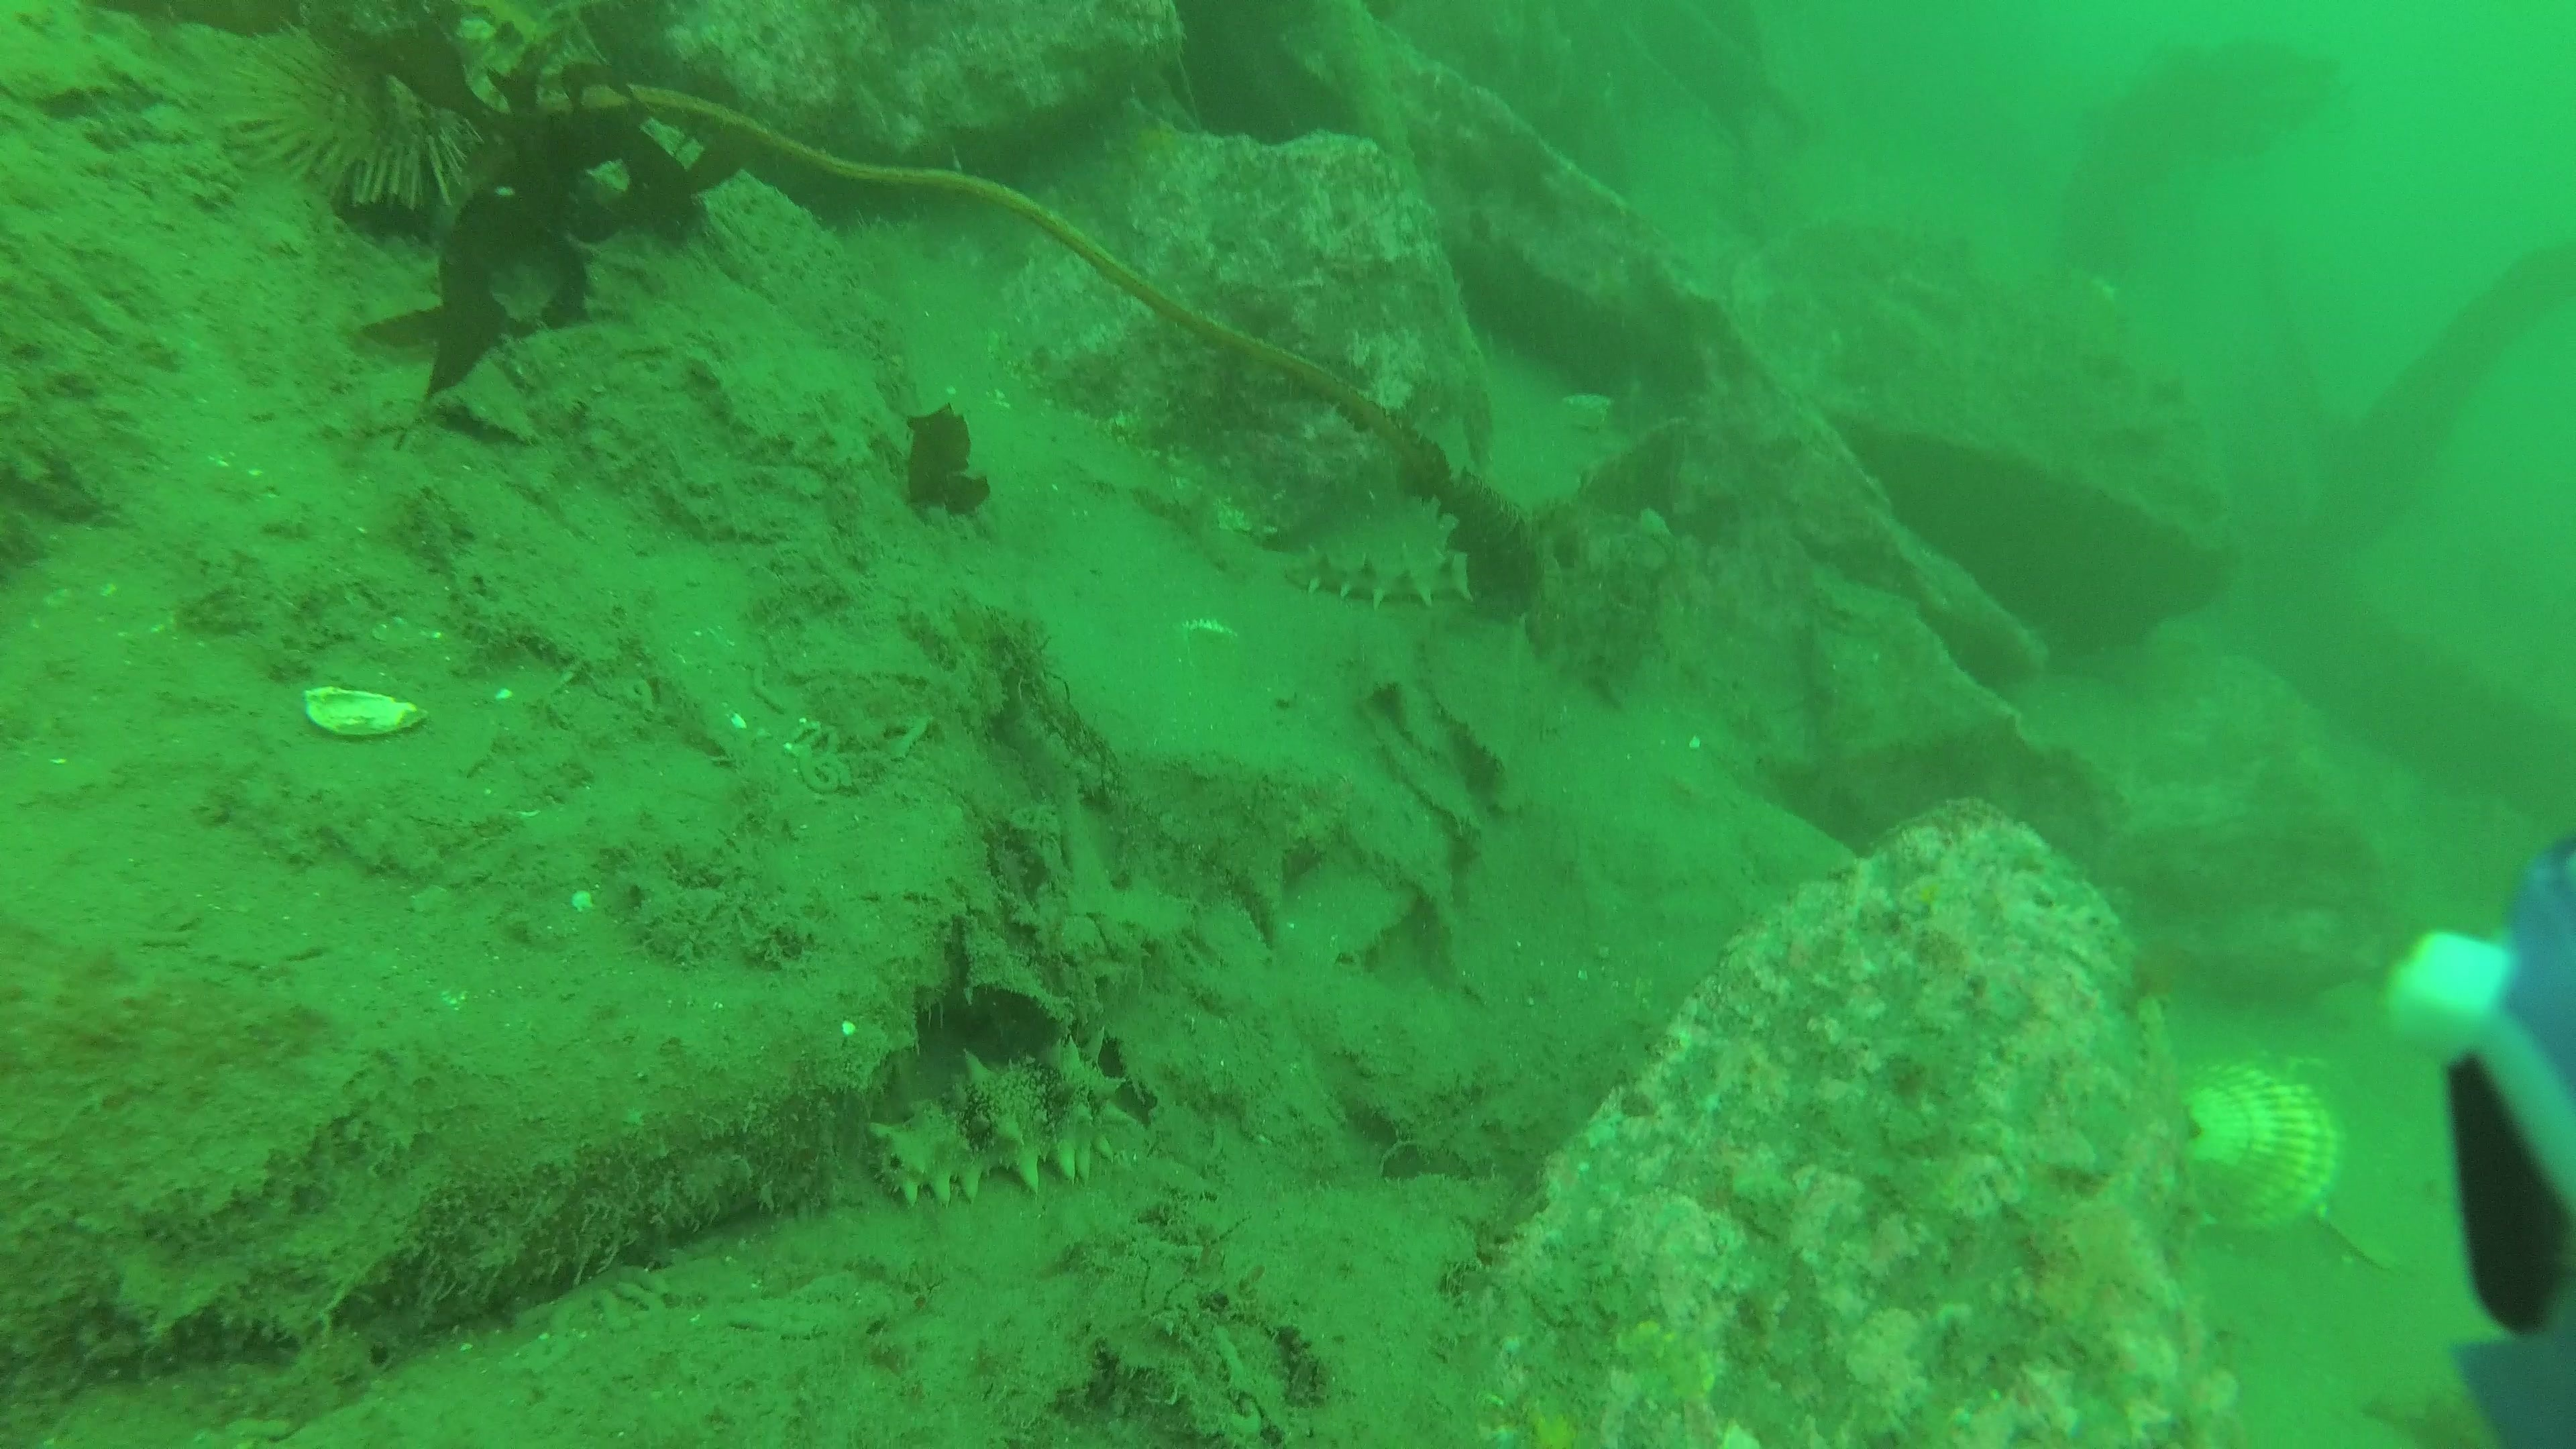echinus: (180, 9, 504, 212)
holothurian: (851, 1024, 1138, 1212), (1269, 529, 1479, 617)
scallop: (2169, 1046, 2346, 1253)
